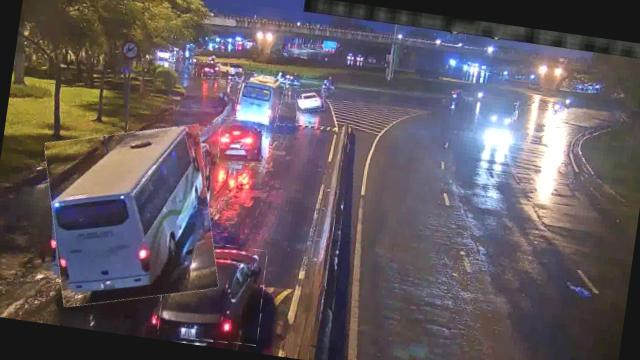Bus: (32, 114, 230, 318), (233, 71, 284, 126)
Car: (154, 237, 268, 347), (215, 114, 268, 167), (293, 86, 325, 114), (195, 60, 222, 80)
